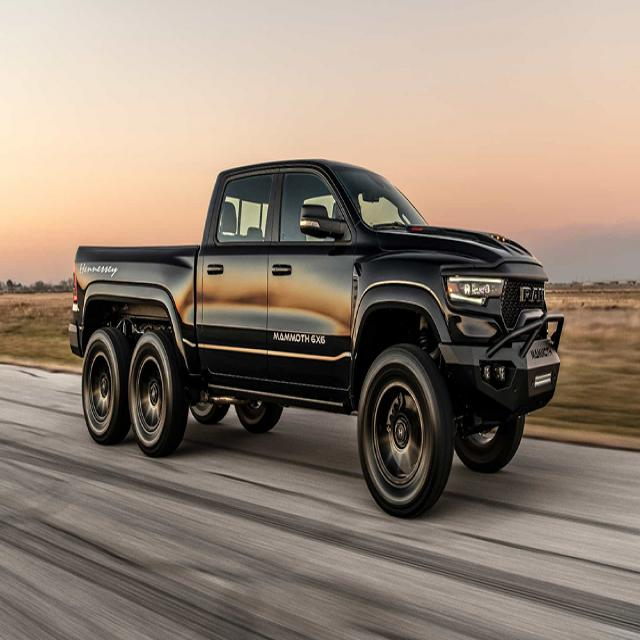truck: (56, 130, 575, 557)
